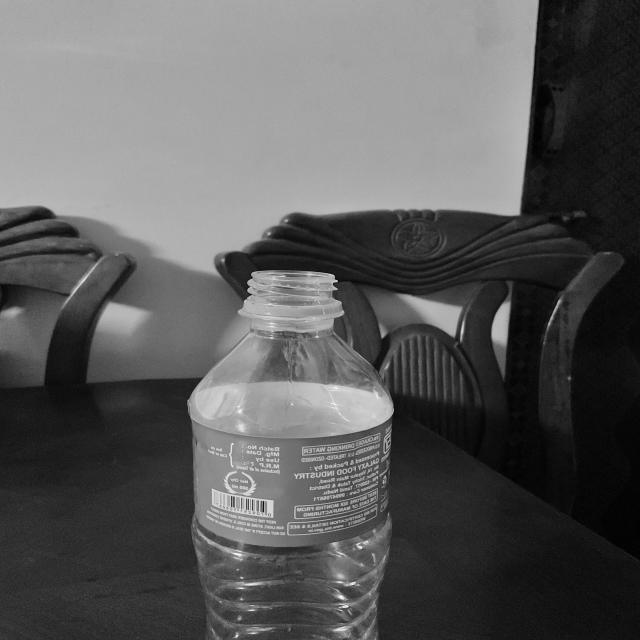open-cap: (235, 268, 344, 323)
